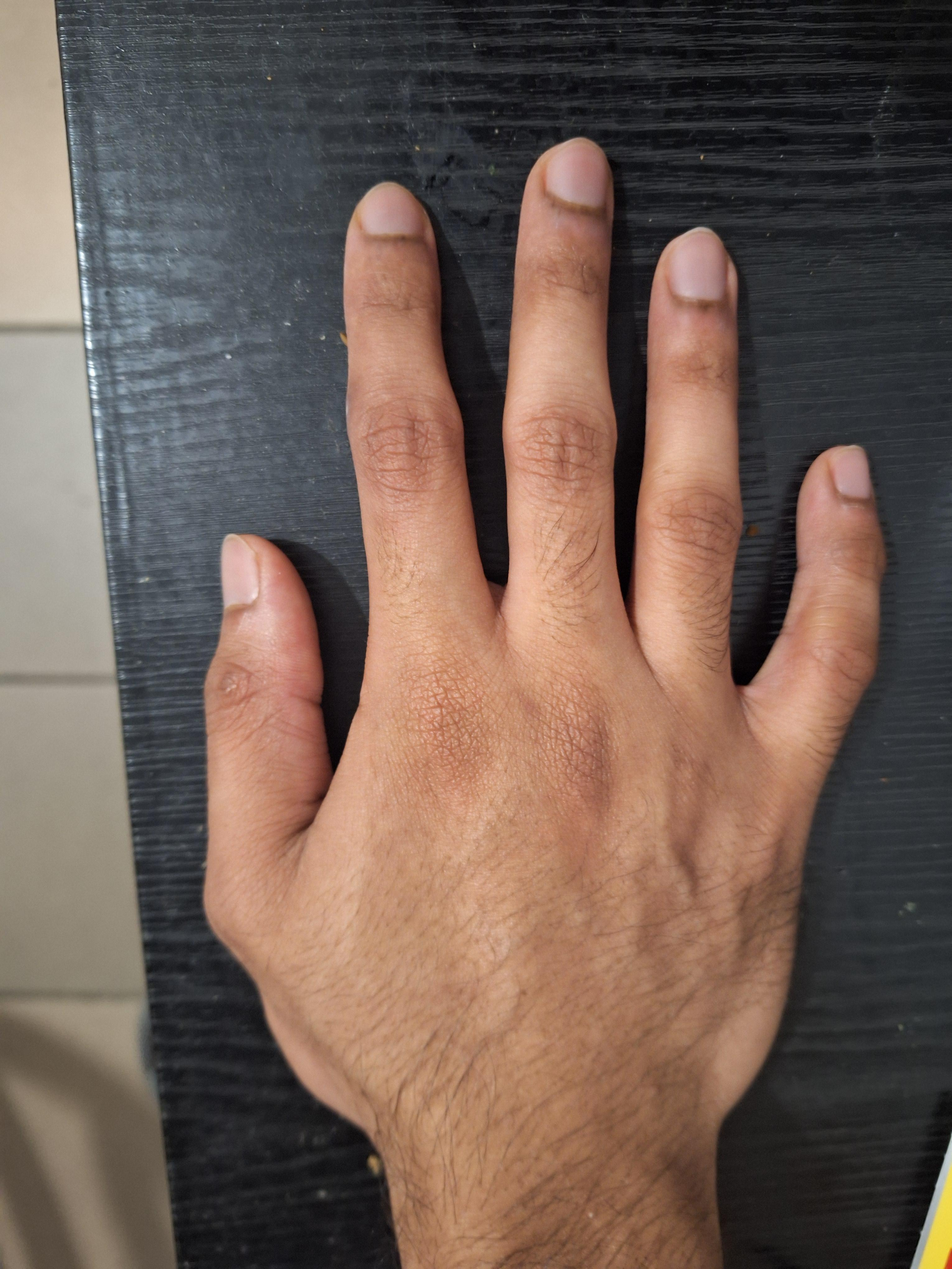Fingernail: (663, 227, 727, 301), (545, 137, 609, 209), (358, 182, 425, 238), (222, 534, 257, 609), (829, 445, 871, 499)
